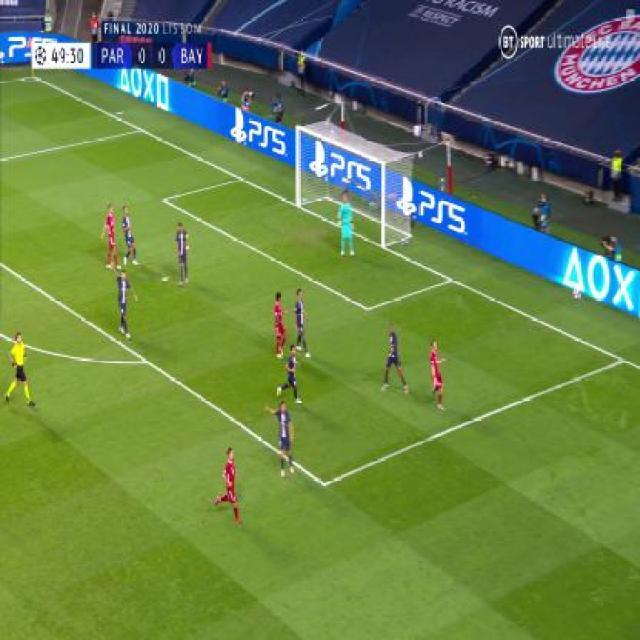player: (5, 332, 38, 411), (215, 445, 243, 528), (380, 322, 409, 396), (268, 399, 294, 479), (113, 269, 135, 337), (428, 338, 447, 411), (101, 204, 121, 270), (293, 289, 312, 358), (279, 348, 302, 404), (337, 192, 354, 260), (273, 292, 290, 360), (121, 208, 140, 267), (174, 222, 190, 287)
